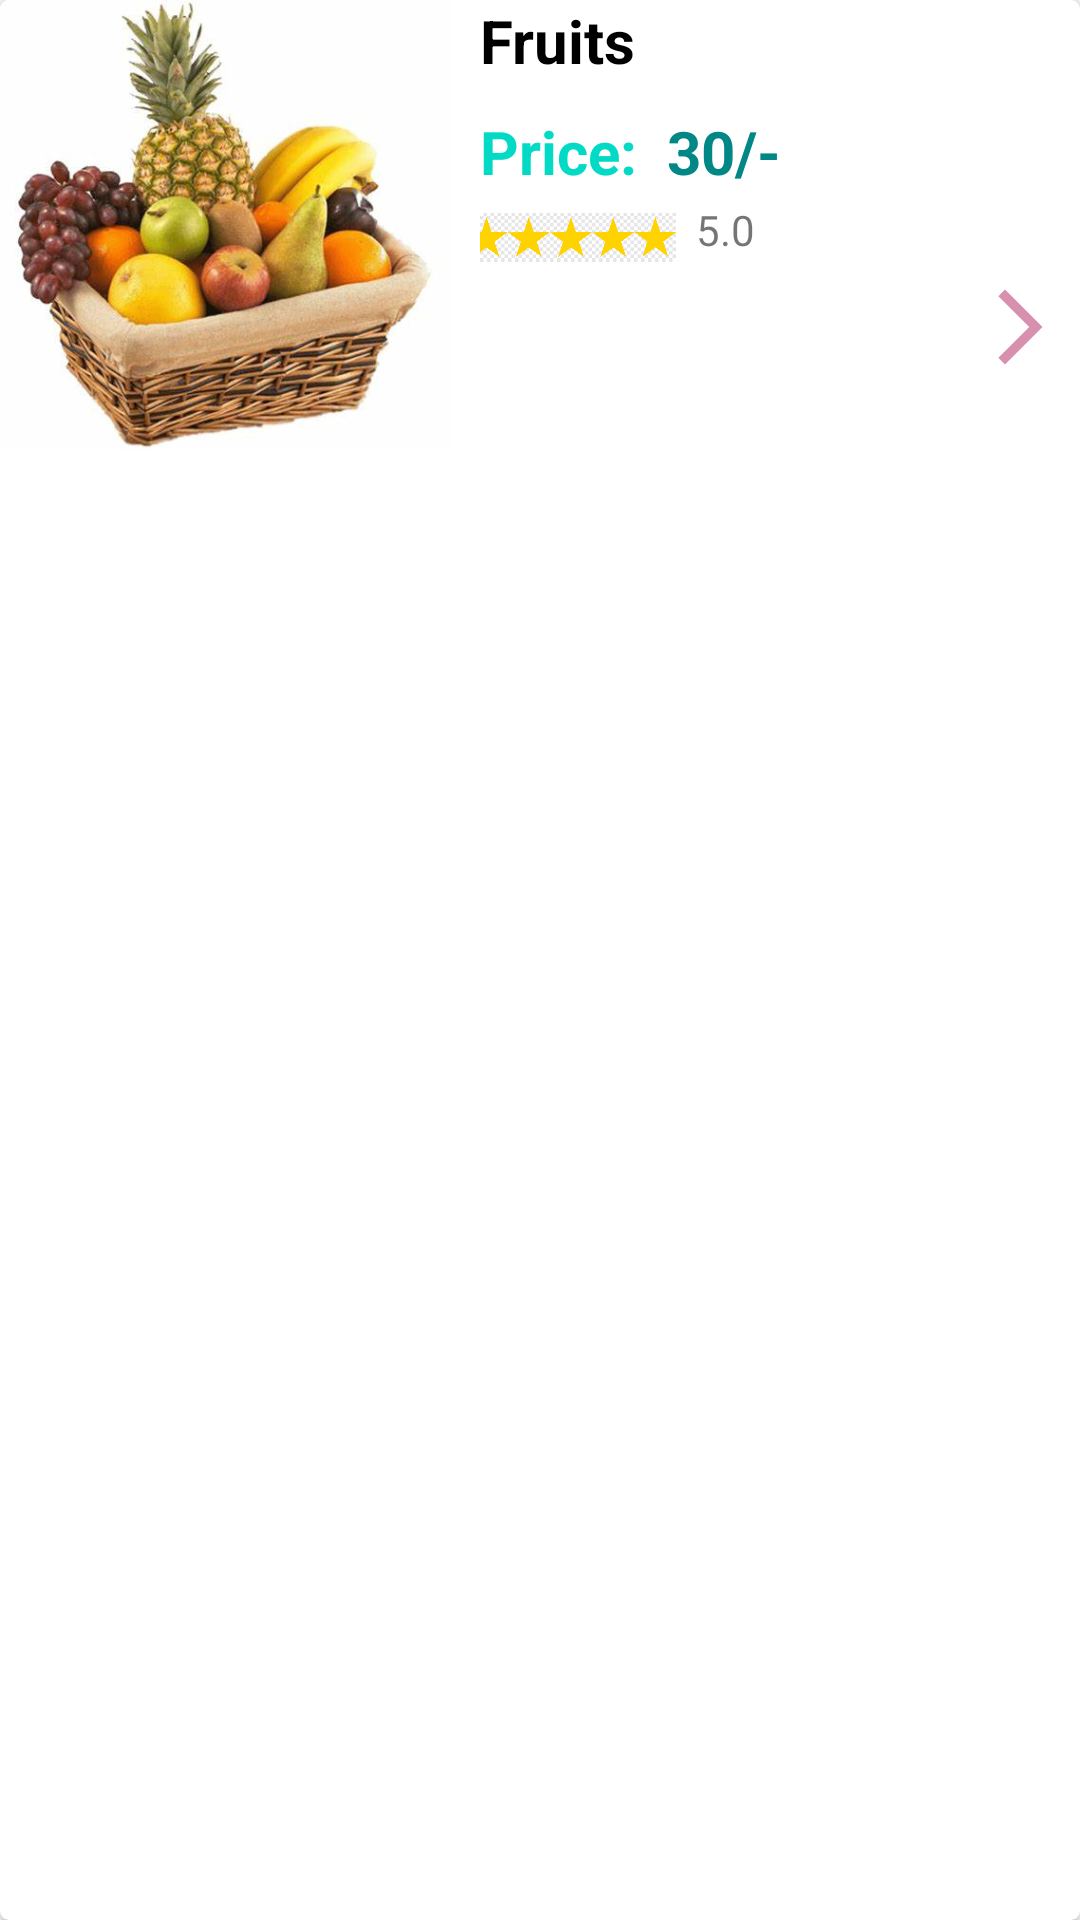

Icon click points for this 1080×1920 phone screenshot, format [x,y]:
arrow forward: [1020,327]
ratingbar: [578,237]
